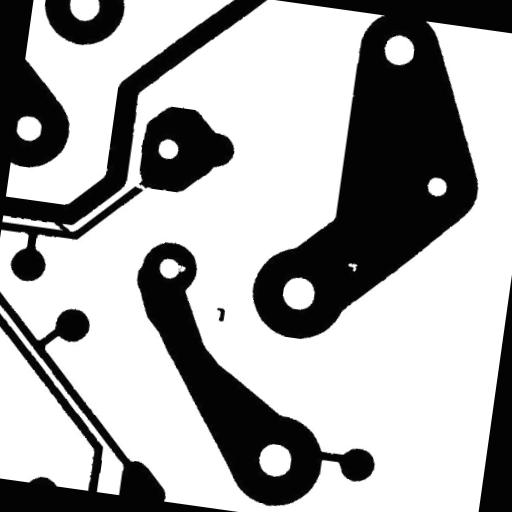copper: (206, 299, 234, 330)
mousebite: (168, 256, 194, 280)
open: (124, 174, 154, 199)
pin-hole: (339, 254, 366, 280)
short: (44, 211, 80, 244)
